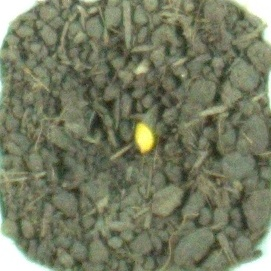pepper seed: (54, 44, 210, 198)
